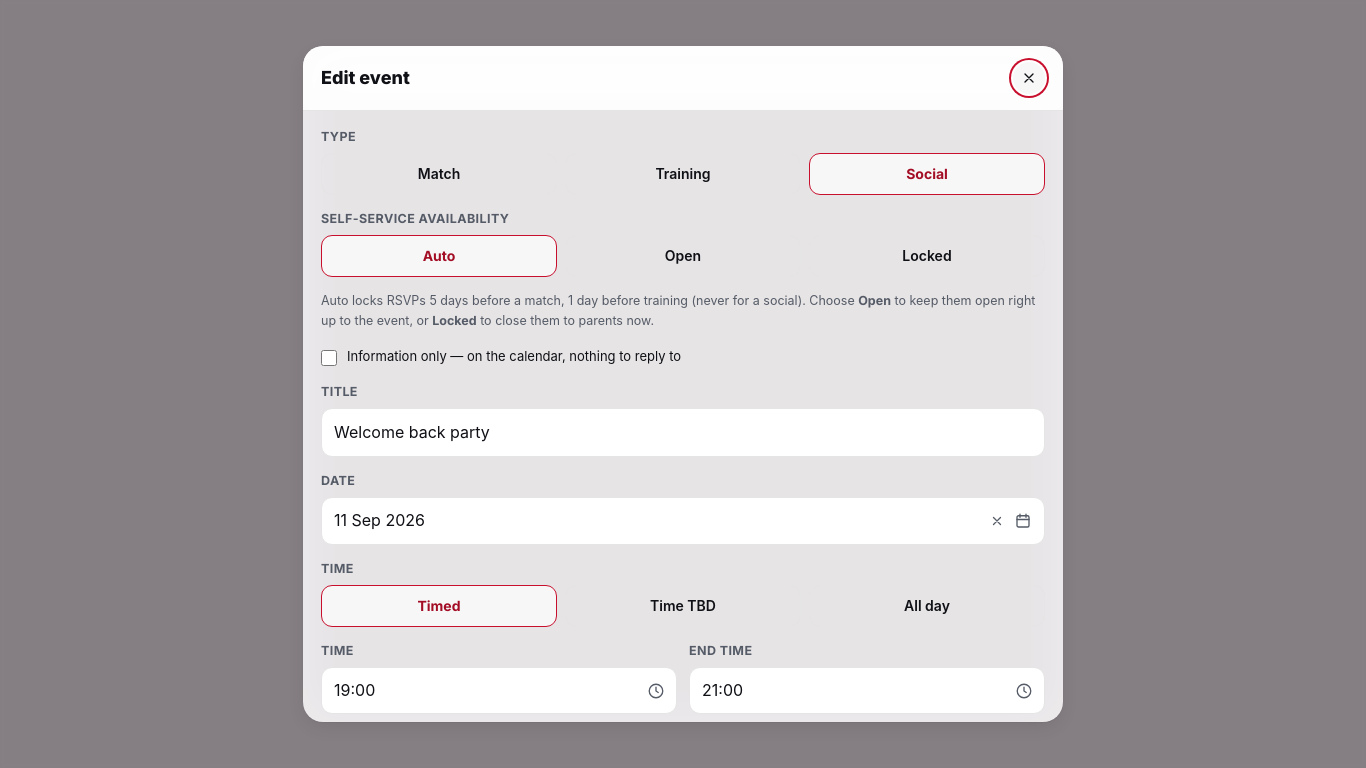
Test: EventForm reclassifying a social as a Club Diary › ⚠️ REFUSES when replies already exist
Step 1. Click the checkbox labelled "Information only — on the calendar, nothing to reply to" → (329, 358), box x1=321 y1=350 x2=337 y2=366
(page scrolled)
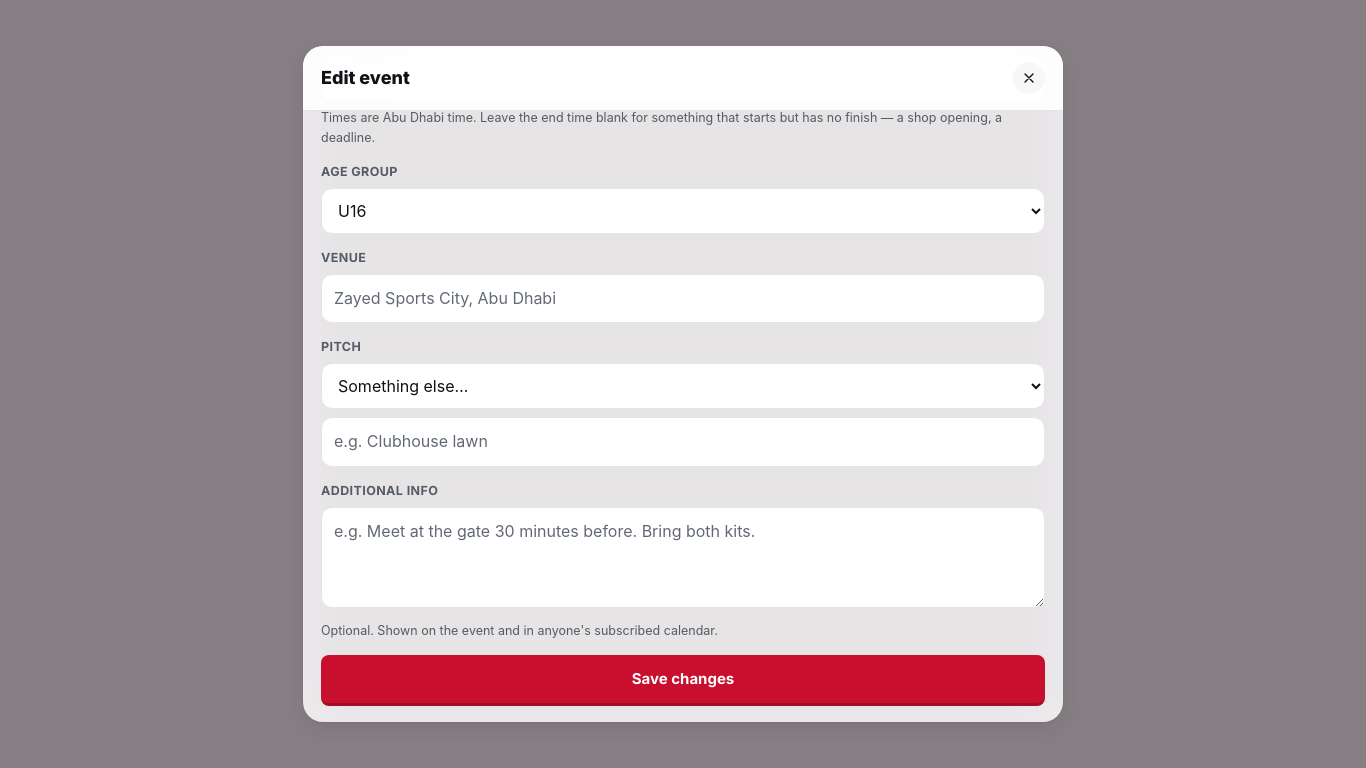
Step 2. Click the button "Save changes" → (683, 681), box x1=321 y1=655 x2=1045 y2=706
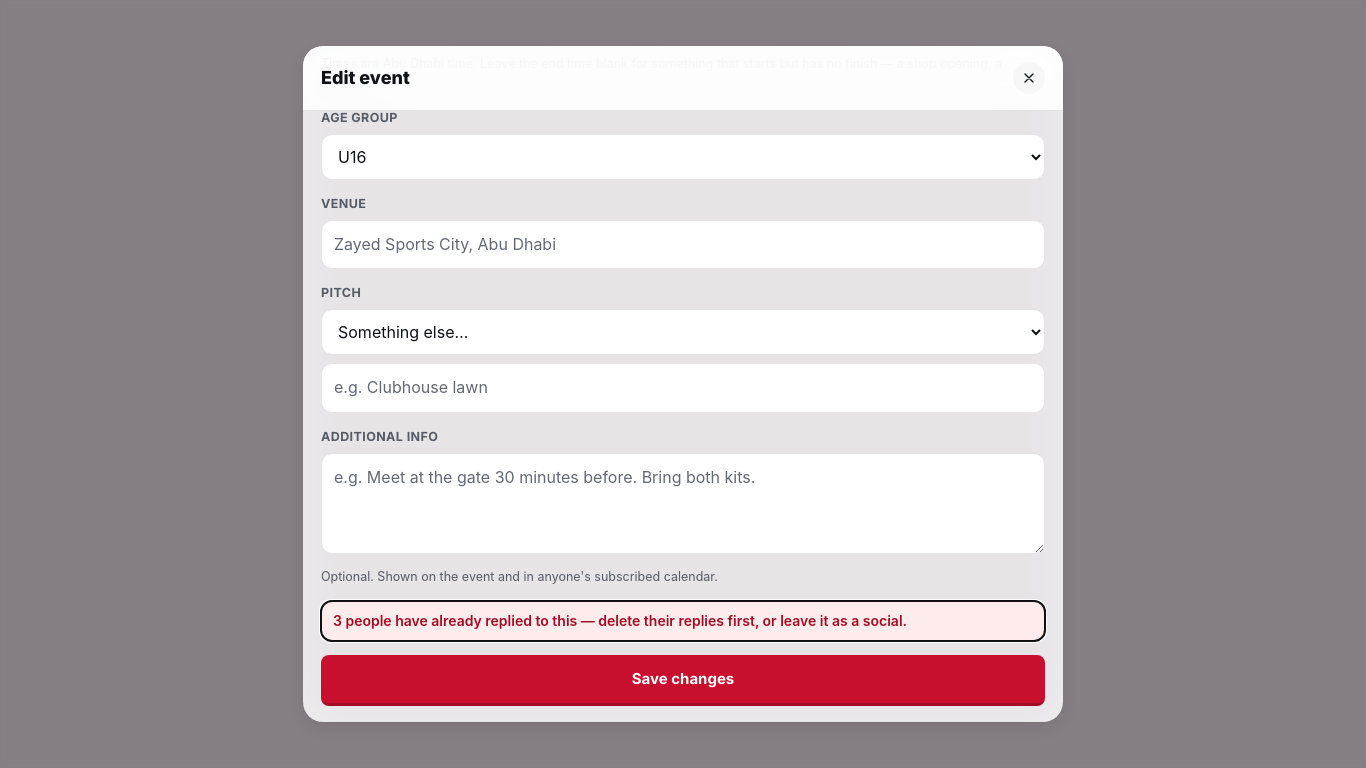
Expected: the message shows "3 people have already replied", x1=333 y1=612 x2=907 y2=629
